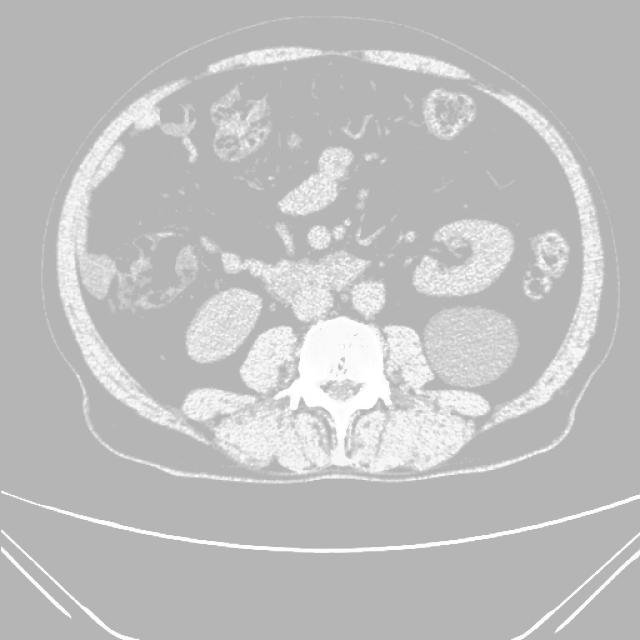cysts: (53, 40, 608, 481)
